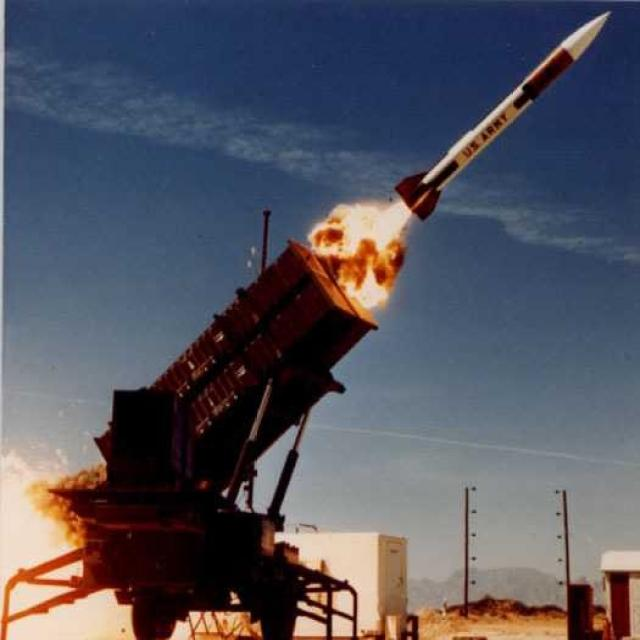missile: (396, 12, 614, 227)
